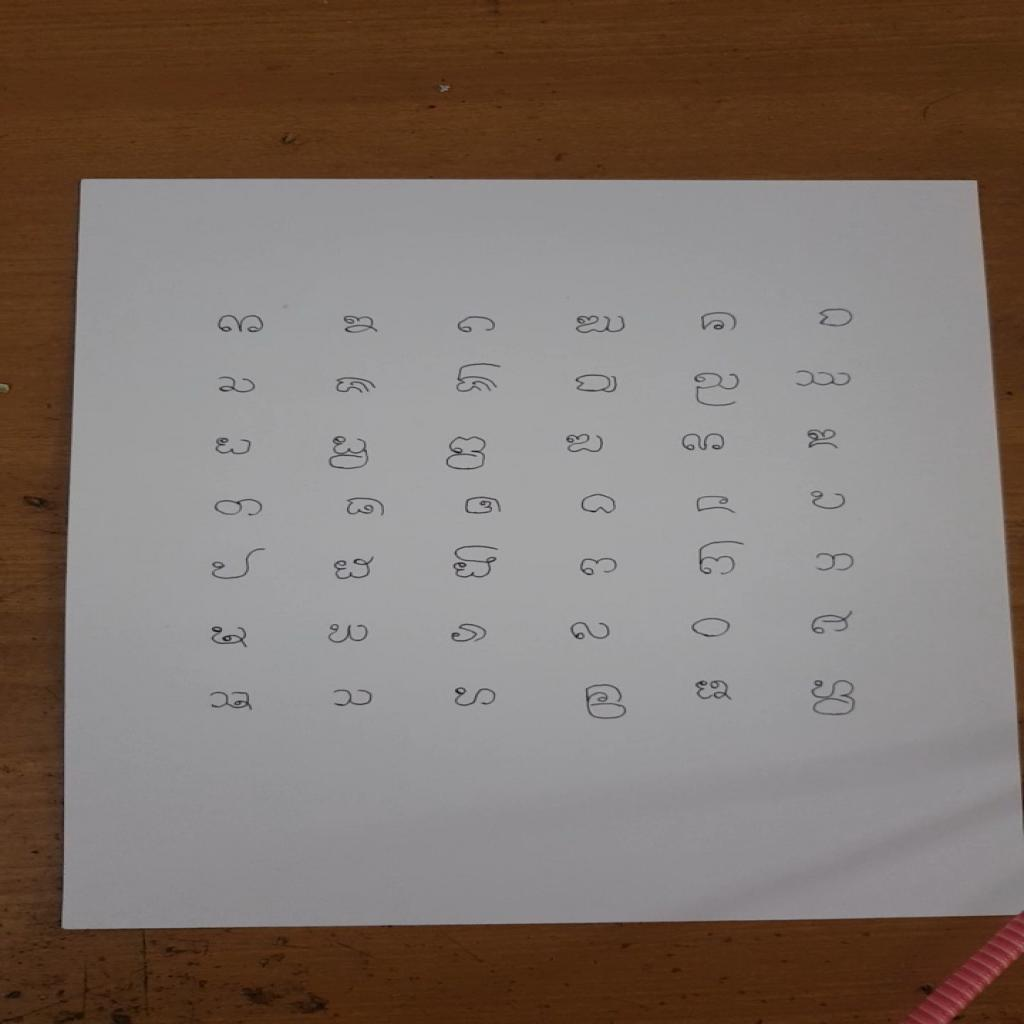LN001: (213, 313, 270, 337)
LN002: (339, 314, 384, 336)
LN003: (455, 315, 502, 337)
LN004: (572, 313, 632, 337)
LN005: (697, 310, 743, 334)
LN006: (815, 306, 860, 330)
LN007: (213, 374, 262, 397)
LN008: (332, 375, 382, 398)
LN009: (454, 361, 508, 397)
LN010: (573, 373, 625, 397)
LN011: (690, 370, 747, 410)
LN012: (791, 368, 859, 390)
LN013: (212, 435, 258, 458)
LN014: (326, 435, 376, 473)
LN015: (443, 435, 493, 473)
LN016: (562, 432, 609, 456)
LN017: (679, 432, 732, 455)
LN018: (801, 427, 844, 453)
LN019: (210, 497, 268, 520)
LN020: (342, 496, 389, 520)
LN021: (460, 495, 507, 518)
LN022: (577, 493, 621, 518)
LN023: (691, 494, 741, 518)
LN024: (807, 489, 854, 513)
LN025: (207, 547, 269, 584)
LN026: (331, 554, 379, 584)
LN027: (449, 545, 503, 582)
LN028: (576, 556, 621, 579)
LN029: (694, 538, 749, 579)
LN030: (813, 551, 860, 575)
LN031: (207, 624, 254, 652)
LN032: (324, 623, 375, 647)
LN033: (447, 621, 493, 647)
LN034: (566, 620, 615, 645)
LN035: (687, 616, 736, 641)
LN036: (808, 609, 860, 638)
LN037: (205, 688, 260, 715)
LN038: (330, 687, 379, 711)
LN039: (450, 685, 503, 711)
LN040: (581, 682, 633, 723)
LN041: (690, 678, 739, 704)
LN042: (807, 677, 863, 720)
